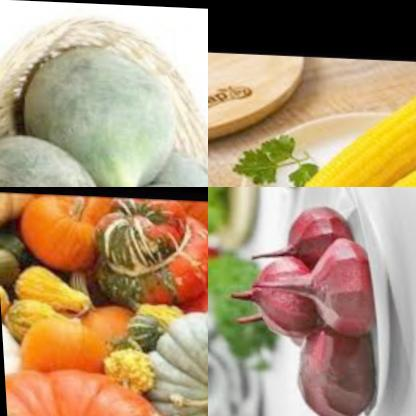beet: (286, 324, 370, 416), (240, 251, 320, 337), (301, 239, 366, 338), (275, 197, 349, 273)
corn: (267, 77, 416, 187)
pumpkin: (78, 194, 208, 312), (0, 280, 153, 380), (84, 194, 208, 305), (1, 362, 195, 416), (138, 303, 208, 416), (1, 258, 94, 329), (8, 192, 100, 260)
redka: (8, 41, 184, 187), (0, 127, 109, 187)
